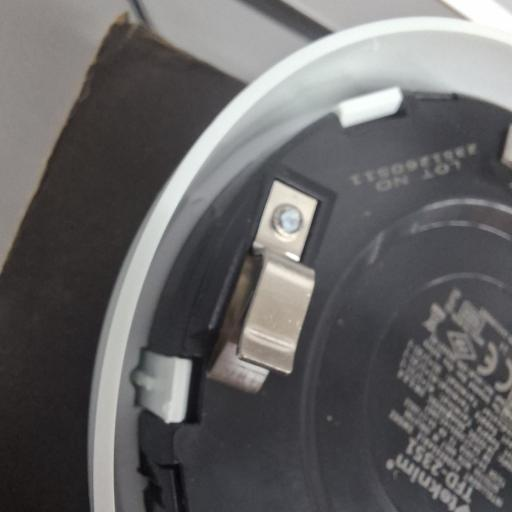yayli: (206, 174, 326, 391)
